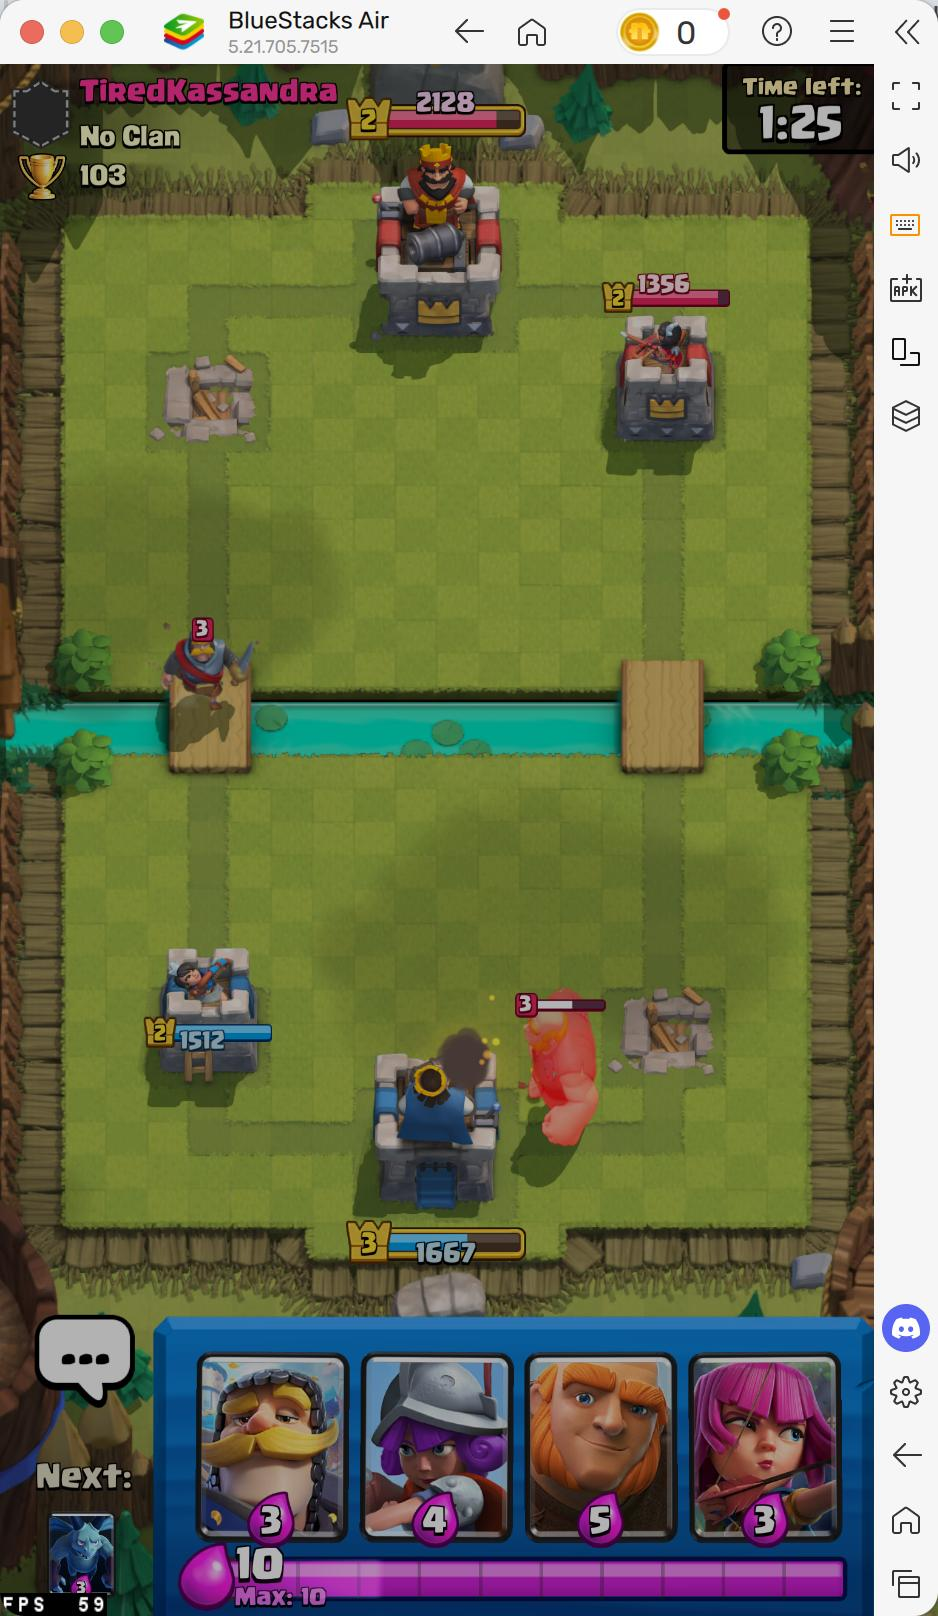0: (250, 1545, 286, 1584)
1: (232, 1543, 253, 1583), (757, 103, 775, 144), (414, 1239, 428, 1266), (431, 87, 442, 116), (178, 1028, 190, 1054), (201, 1028, 212, 1051), (636, 271, 648, 295)
2: (789, 102, 816, 143), (440, 88, 458, 115), (414, 89, 433, 114), (210, 1028, 227, 1052)
3: (753, 1502, 777, 1538), (259, 1502, 283, 1536), (645, 271, 662, 296), (75, 1579, 86, 1596)
4: (421, 1503, 449, 1538)
5: (815, 104, 843, 144), (587, 1503, 613, 1539), (659, 271, 676, 296), (188, 1029, 203, 1052)
7: (424, 1239, 446, 1267), (442, 1239, 461, 1268), (674, 271, 692, 296), (460, 1240, 477, 1266)
Battle: (456, 89, 477, 115)
Enemy Tower: (612, 315, 718, 443)
Friendly Tower: (161, 944, 260, 1076)
